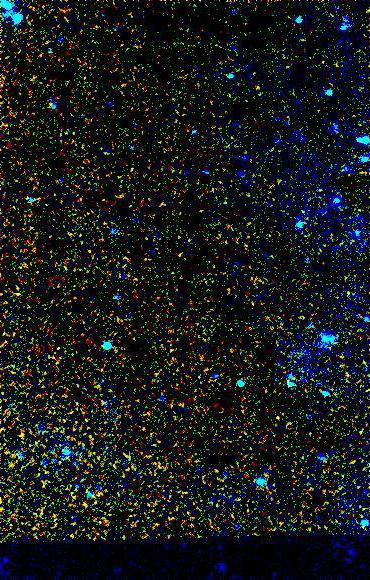star: (243, 76, 273, 106)
